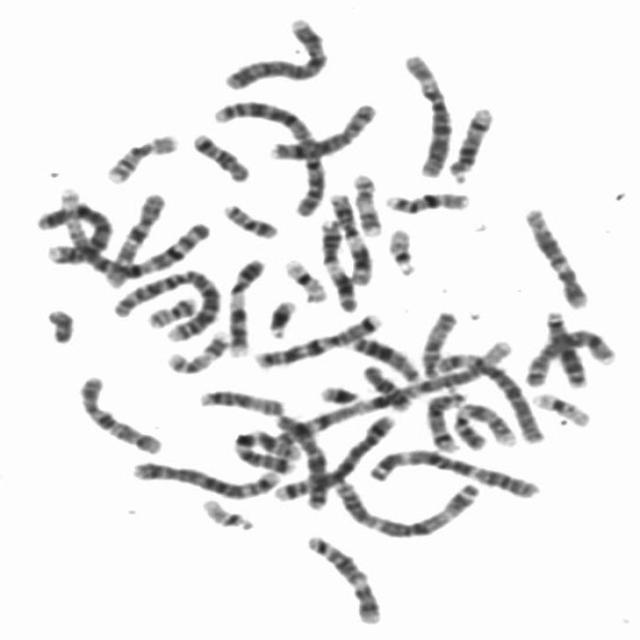A1: (267, 336, 522, 448), (39, 205, 212, 277)
A2: (205, 94, 328, 219), (107, 264, 224, 343)
A3: (331, 473, 484, 539), (364, 444, 544, 500)
B4: (220, 12, 332, 92), (38, 196, 115, 266)
B5: (270, 409, 400, 504), (126, 455, 284, 501)
C10: (72, 369, 167, 456), (101, 189, 168, 289)
C11: (324, 189, 375, 286), (314, 215, 359, 313)
C12: (520, 202, 594, 310), (301, 531, 384, 625)
C6: (431, 348, 546, 446), (398, 48, 457, 180)
C7: (248, 308, 384, 369), (228, 424, 303, 476)
C8: (264, 98, 378, 162), (520, 324, 620, 389)
C9: (223, 253, 271, 359), (448, 398, 520, 452)
D13: (540, 304, 591, 390), (346, 330, 424, 384)
D14: (444, 102, 497, 184), (420, 384, 470, 454)
D15: (418, 305, 461, 380), (194, 384, 287, 418)
E16: (100, 128, 182, 186), (380, 186, 473, 216)
E17: (162, 326, 232, 375), (347, 167, 386, 238)
E18: (187, 128, 253, 184), (358, 360, 413, 412)
F19: (528, 388, 594, 428), (279, 253, 330, 304)
F20: (217, 198, 281, 241), (143, 292, 201, 330)
G21: (262, 294, 300, 339), (314, 379, 364, 406)
G22: (196, 494, 258, 533), (382, 222, 421, 278)
X: (271, 408, 332, 511)
Y: (41, 303, 78, 345)
